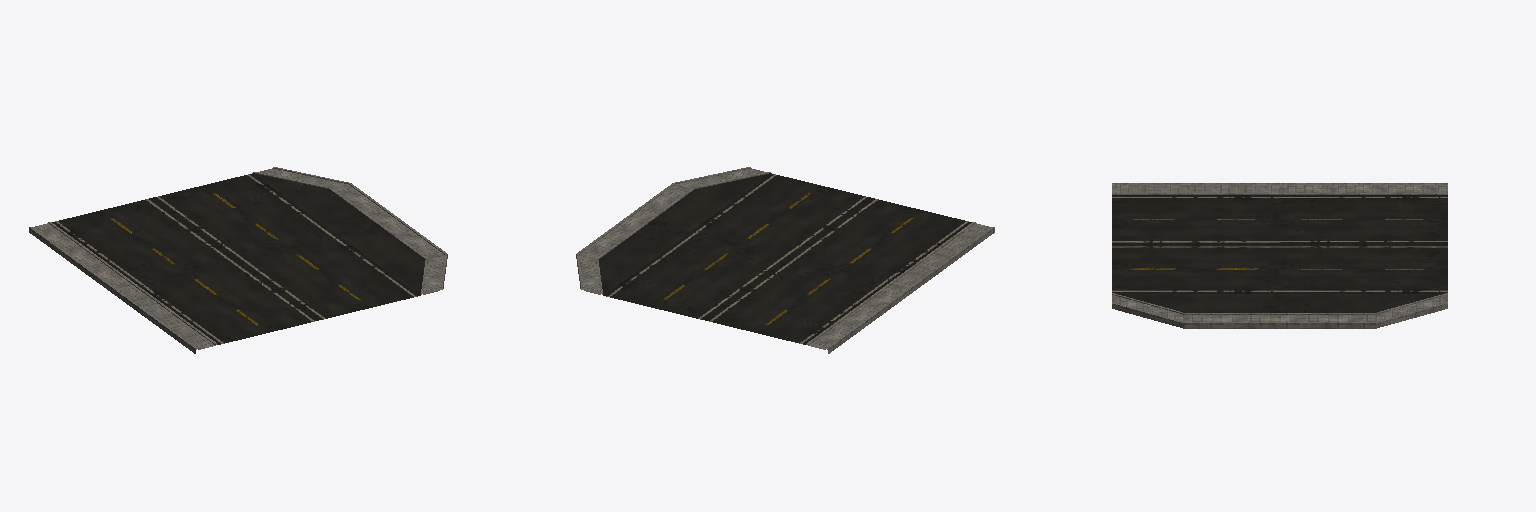
The picture shows the model from 3 angles: view 1: azimuth 30°, elevation 25°; view 2: azimuth 150°, elevation 25°; view 3: azimuth 270°, elevation 25°; orthographic projection.
Parts seen in each view (by area): view 1: 7_Road-BusStop-Double; view 2: 7_Road-BusStop-Double; view 3: 7_Road-BusStop-Double.
Part boxes in pixels (left/top/right/bottom): 7_Road-BusStop-Double: left=29, top=167, right=447, bottom=353; 7_Road-BusStop-Double: left=576, top=167, right=994, bottom=353; 7_Road-BusStop-Double: left=1112, top=183, right=1447, bottom=328.
Bounding box in the file's own units: 1.22 × 0.0219 × 1.24.
Materials: 1 (1 with a texture image).